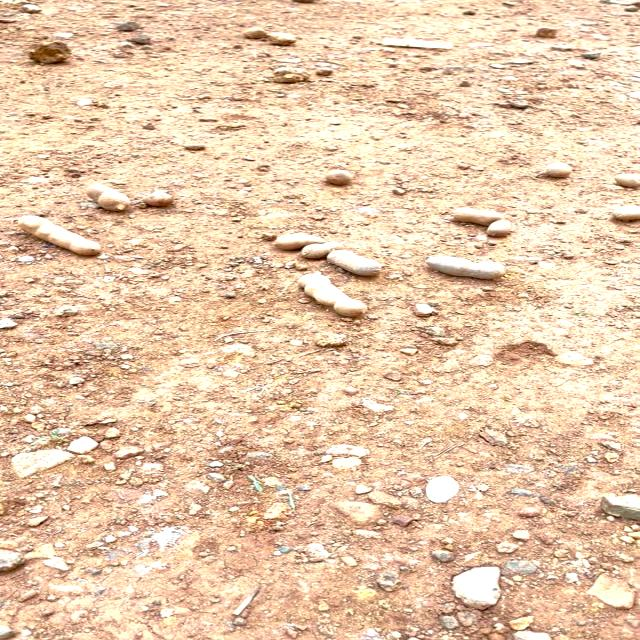tamarind: (18, 217, 106, 256), (299, 272, 364, 316), (440, 206, 515, 244), (424, 253, 511, 280), (324, 251, 386, 277), (85, 181, 128, 211), (296, 240, 350, 258), (274, 233, 324, 250), (536, 163, 572, 180), (610, 204, 640, 224), (608, 172, 640, 188), (328, 170, 356, 188), (147, 195, 175, 208)
